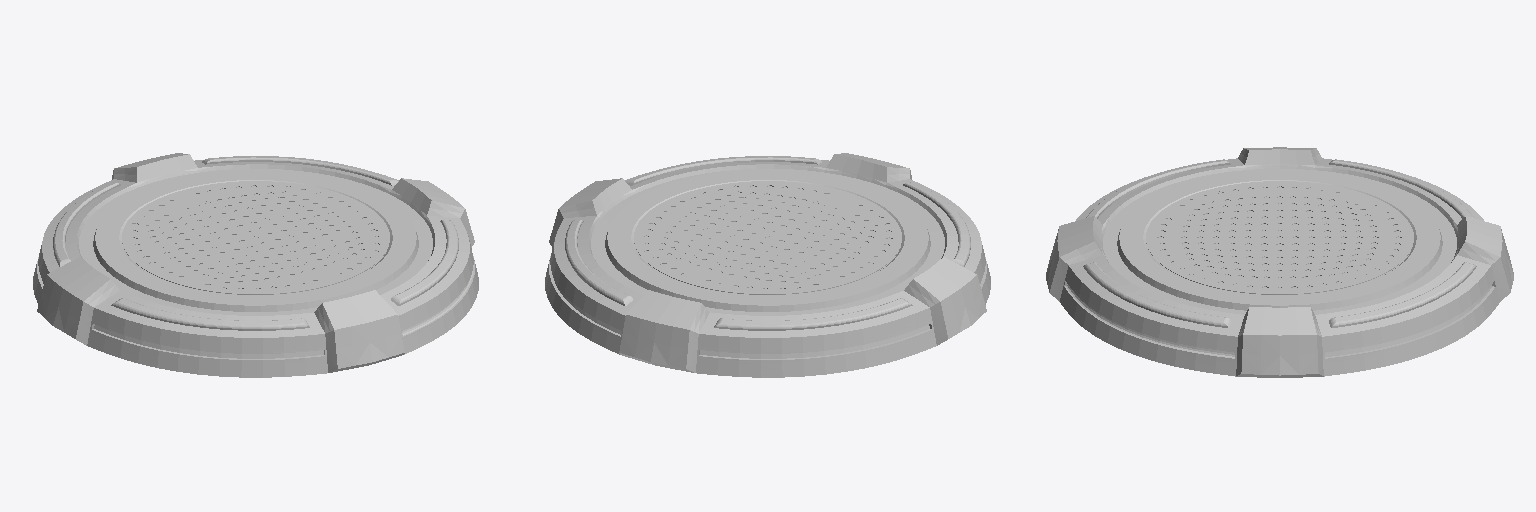
The model's file is pedestal.obj.
3 views of the same model, side by side, from view 1: azimuth 30°, elevation 25°; view 2: azimuth 150°, elevation 25°; view 3: azimuth 270°, elevation 25° (orthographic).
Parts seen in each view (by area): view 1: tech_pedestal_Circle.001; view 2: tech_pedestal_Circle.001; view 3: tech_pedestal_Circle.001.
Boxes of the visible parts, x1=… form: tech_pedestal_Circle.001: x1=33, y1=153, x2=478, y2=377; tech_pedestal_Circle.001: x1=545, y1=153, x2=990, y2=377; tech_pedestal_Circle.001: x1=1046, y1=147, x2=1513, y2=377.
Size of the model in its own units: 24.79 by 3.21 by 24.79.